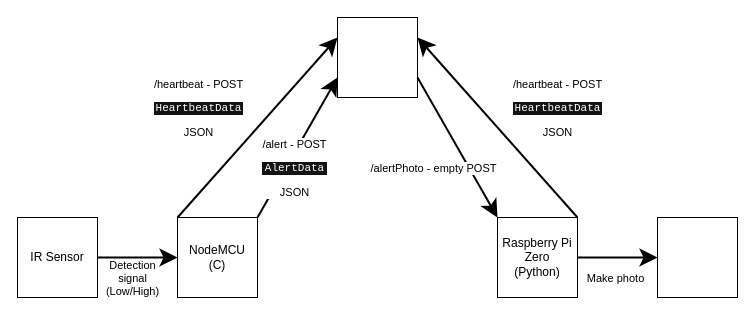
Image size: 755x315. Some labels were removed from this diagram. The shapes that lost their labels are listed below. From the top down, each one's box as (x1, y1, x2, y2) in pixels, then its label:
(336, 16, 418, 98): Server (Ktor)
(656, 216, 738, 298): Camera
